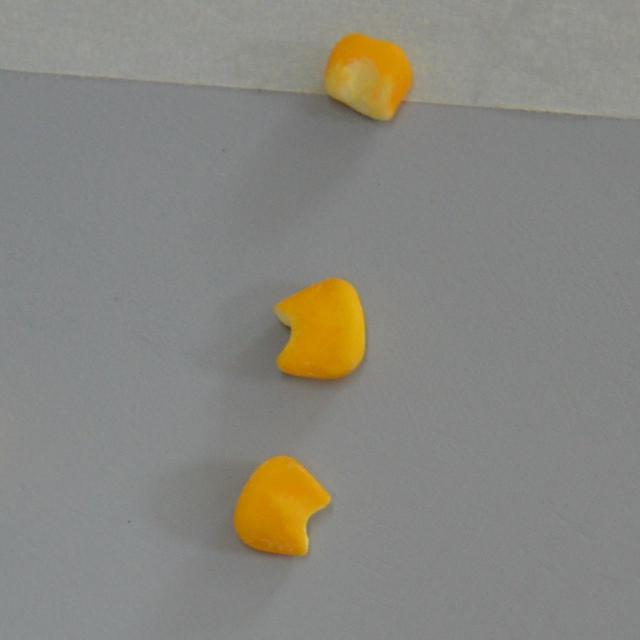no_canjicado: (272, 274, 367, 380), (231, 455, 329, 556), (324, 34, 412, 120)
